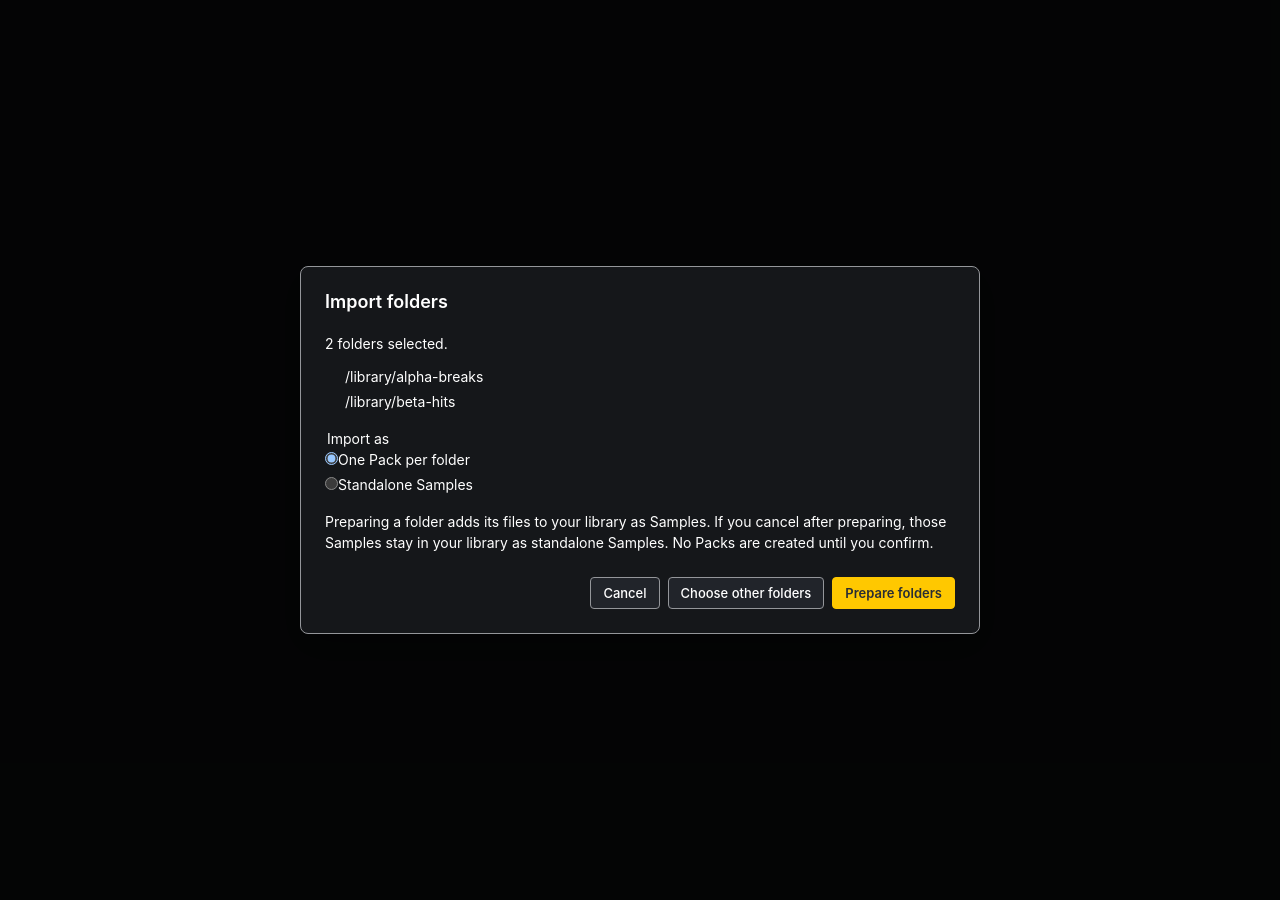
Test: reports a partial batch instead of presenting it as full success
The width and height of the screenshot is (1280, 900).
Click the button "Prepare folders" at (894, 593), box [832, 577, 955, 609]
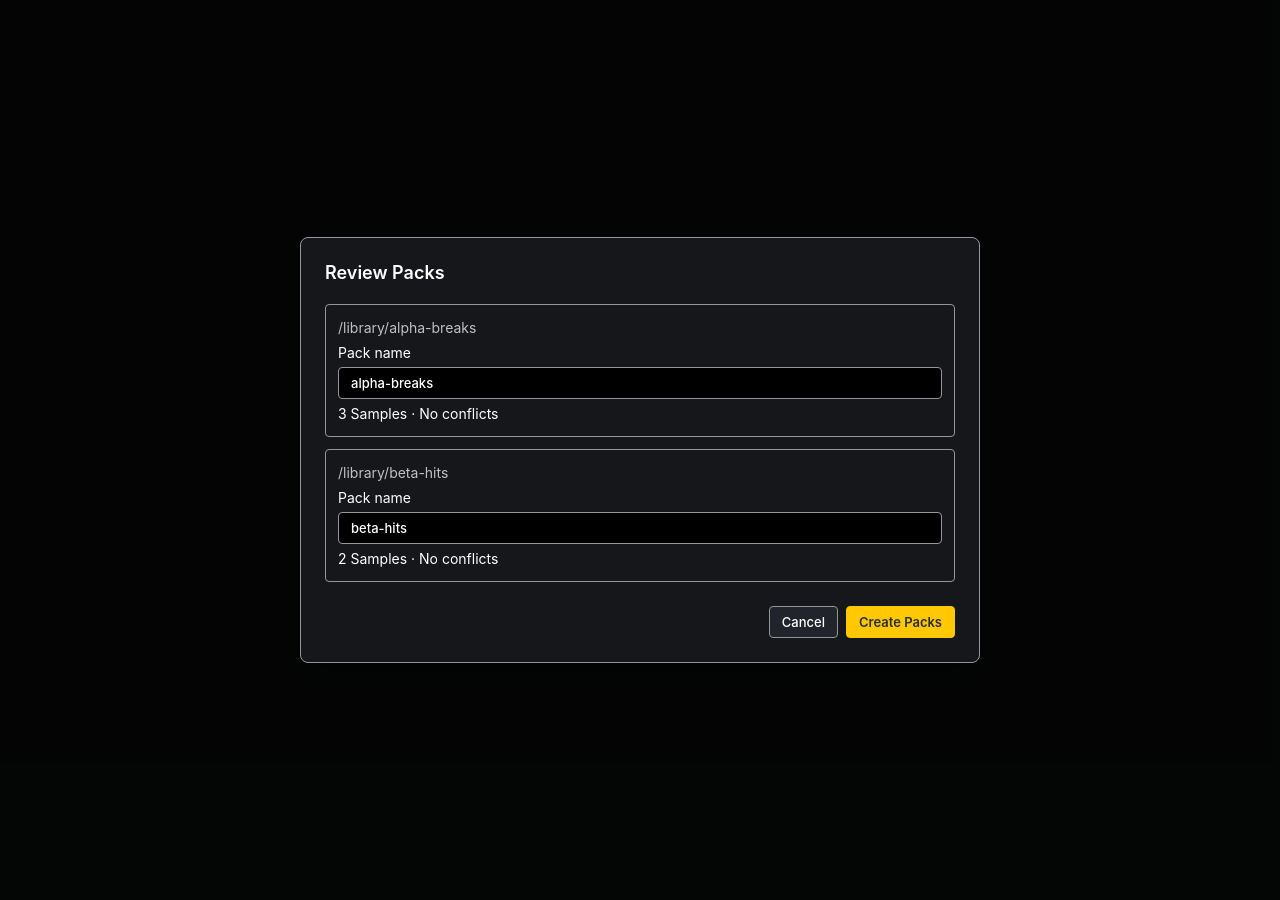
Click the button "Create Packs" at (900, 622), box [846, 606, 955, 638]
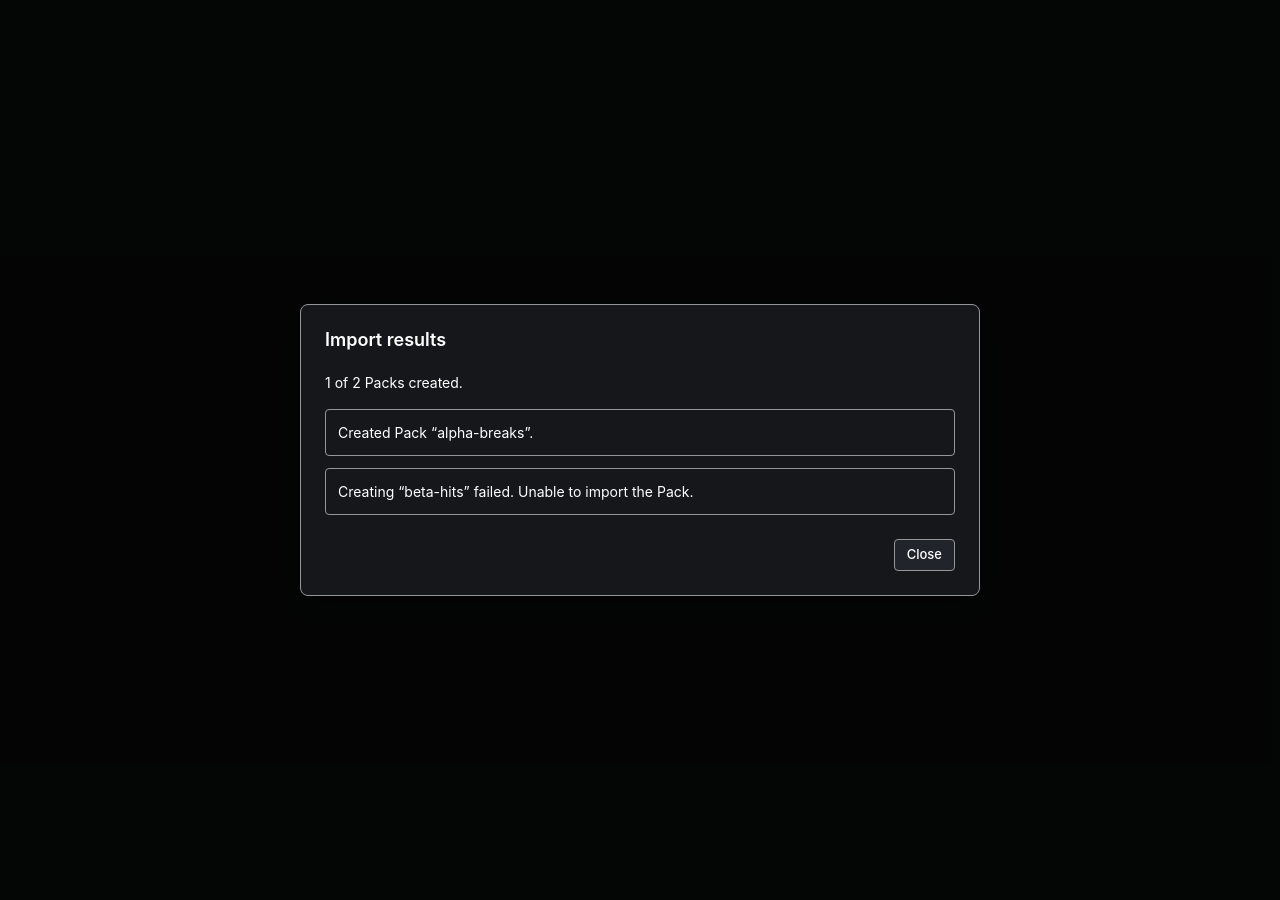
Expected: the message "1 of 2 Packs created." does not show "2 of 2 Packs created.", [325, 374, 463, 391]
Expected: the message "1 of 2 Packs created." is shown, [325, 374, 463, 391]
Expected: the message "Creating “beta-hits” failed. Unable to import the Pack." is shown, [338, 483, 694, 500]
